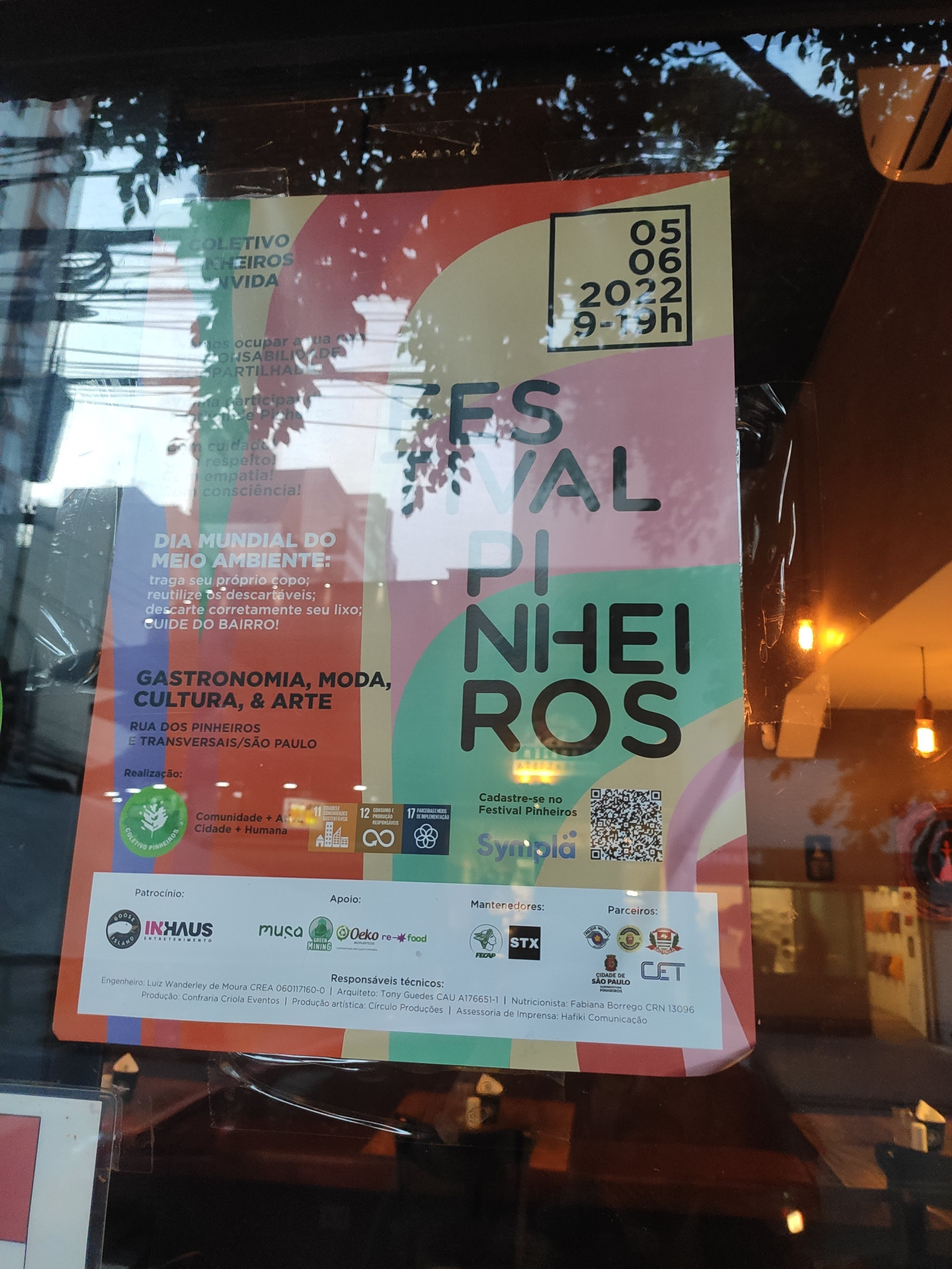QR-CODE: (590, 788, 663, 862)
